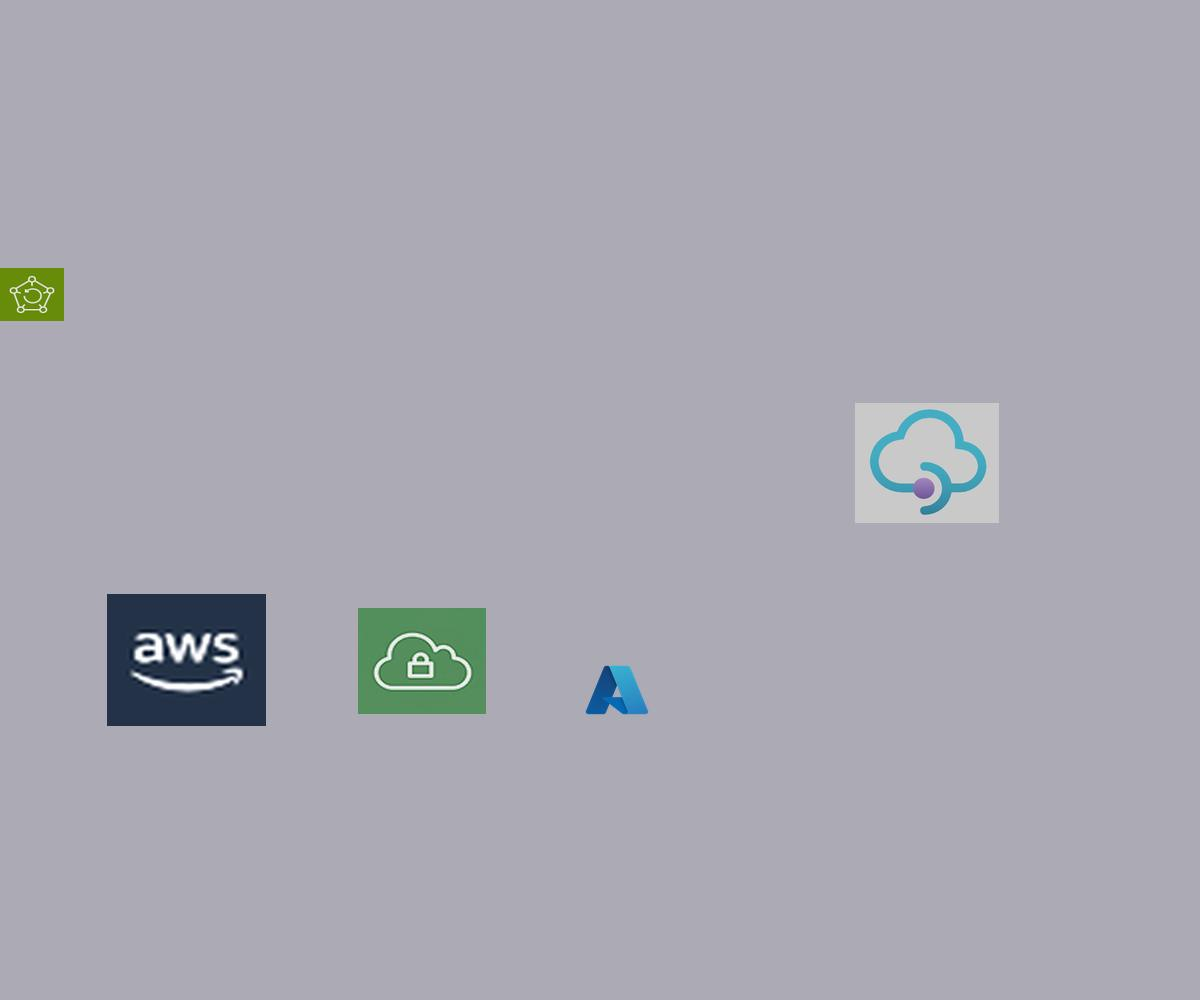AWS-Backup: (0, 268, 64, 321)
AWS-Cloud-logo: (107, 594, 266, 726)
AWS-Private_vpc: (358, 608, 486, 714)
Azure_api_gateway: (855, 403, 999, 523)
Azure_services: (583, 662, 651, 718)
